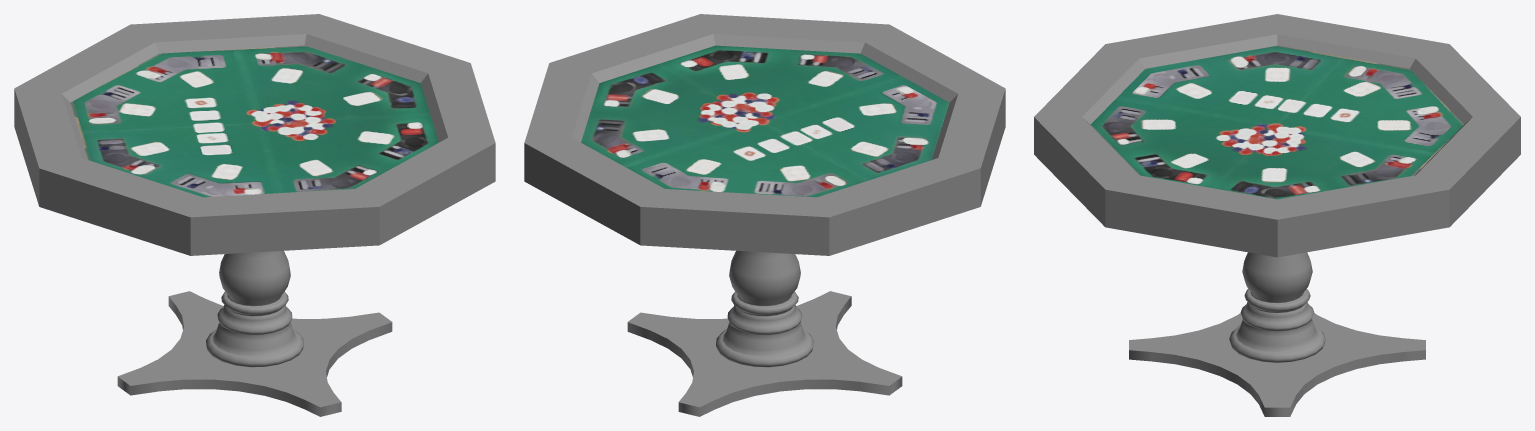
The model's file is INV_PokerTable_01.fbx.
3 renders of one model, left to right at view 1: azimuth 30°, elevation 25°; view 2: azimuth 150°, elevation 25°; view 3: azimuth 270°, elevation 25°, orthographic. The views are drawn at different scales.
Parts seen in each view (by area): view 1: INV_PokerTable_01; view 2: INV_PokerTable_01; view 3: INV_PokerTable_01.
Part boxes in pixels (left/top/right/bottom): INV_PokerTable_01: left=14, top=14, right=495, bottom=416; INV_PokerTable_01: left=524, top=14, right=1005, bottom=416; INV_PokerTable_01: left=1034, top=14, right=1520, bottom=416.
Bounding box in the file's own units: 200 × 108 × 200.
Materials: 2 (1 with a texture image).
